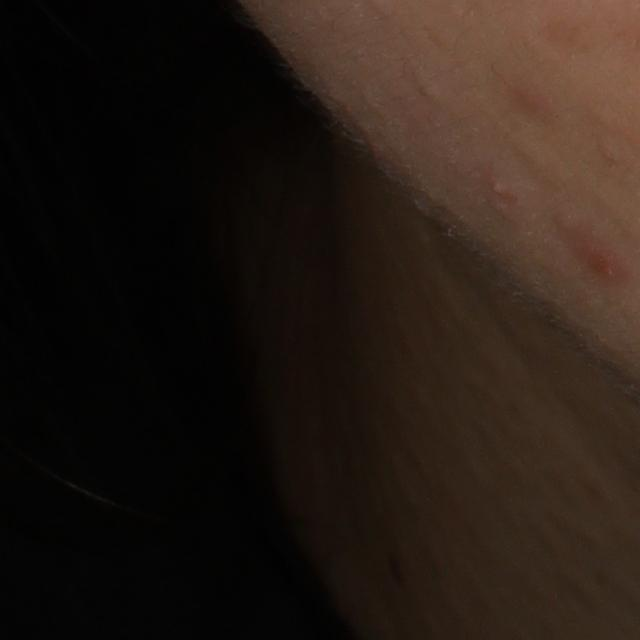papule: (569, 239, 633, 282), (487, 178, 507, 199)
